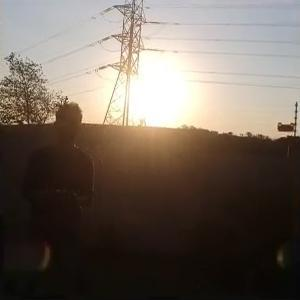follow: (15, 99, 97, 298)
